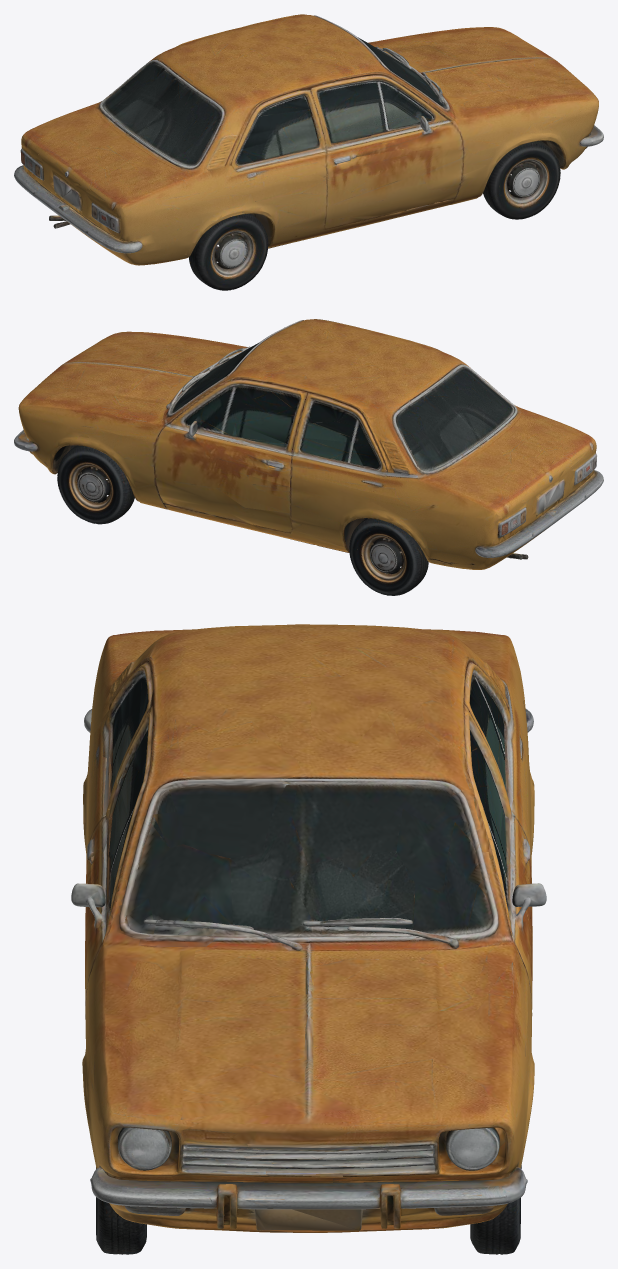
Rendered from lambari-abandonado__01a16c1c.glb.
The picture shows the model from 3 angles, top to bottom: view 1: azimuth 30°, elevation 25°; view 2: azimuth 150°, elevation 25°; view 3: azimuth 270°, elevation 25°; orthographic projection. The views are drawn at different scales.
Parts seen in each view (by area): view 1: lambari-abandonado; view 2: lambari-abandonado; view 3: lambari-abandonado.
Boxes of the visible parts, left/top/right/bottom form: lambari-abandonado: left=14, top=14, right=603, bottom=290; lambari-abandonado: left=14, top=319, right=603, bottom=595; lambari-abandonado: left=71, top=624, right=546, bottom=1254.
Size of the model in its own units: 4.12 by 1.42 by 1.69.
1 material, 1 textured.
